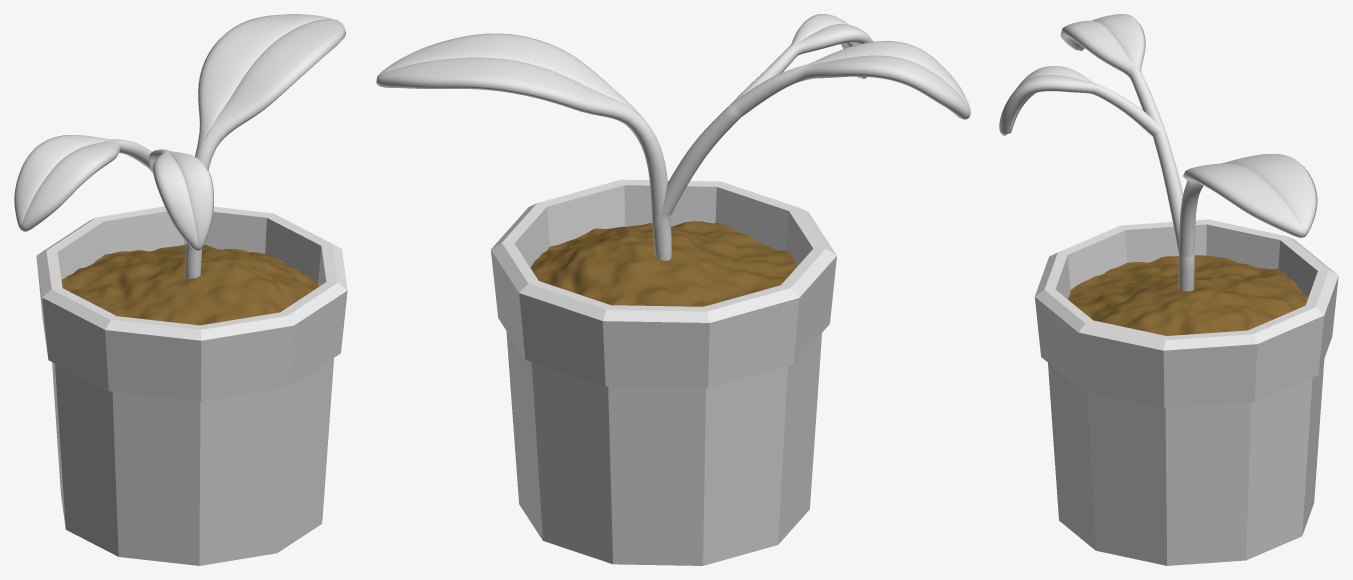
The picture shows the model from 3 angles, left to right: view 1: azimuth 30°, elevation 25°; view 2: azimuth 150°, elevation 25°; view 3: azimuth 270°, elevation 25°; orthographic projection. The views are drawn at different scales.
Visible parts, largest first — view 1: Pot_Cylinder.020, PLant_Plane.001, Soil_Circle.001; view 2: Pot_Cylinder.020, PLant_Plane.001, Soil_Circle.001; view 3: Pot_Cylinder.020, PLant_Plane.001, Soil_Circle.001.
Boxes of the visible parts, x1,y1,x2,y2 form: Pot_Cylinder.020: (36, 206, 347, 565); PLant_Plane.001: (14, 14, 345, 279); Soil_Circle.001: (61, 245, 318, 325); Pot_Cylinder.020: (490, 179, 836, 565); PLant_Plane.001: (376, 14, 970, 260); Soil_Circle.001: (530, 221, 797, 306); Pot_Cylinder.020: (1034, 219, 1338, 565); PLant_Plane.001: (999, 14, 1317, 291); Soil_Circle.001: (1068, 255, 1308, 335).
Bounding box in the file's own units: 335 × 318 × 237.
